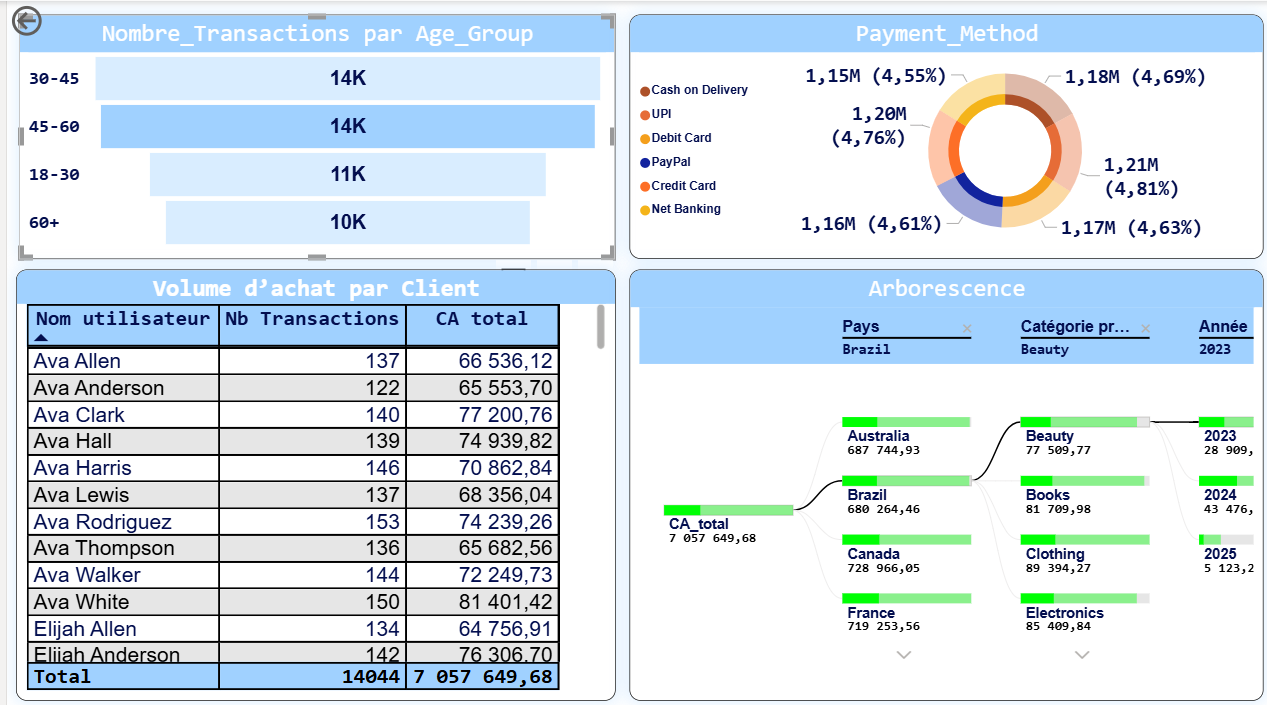

Layout of this report page (visuals, bound fields, positions):
{"tool":"powerbi","page":{"name":"Page 2","canvas":[1280,720],"ordinal":1},"visuals":[{"type":"funnel","fields":{"Category":["transactions_modifier.Age_Group"],"Y":["transactions_modifier.Nombre_Transactions"]},"box":[11.7,13.3,601.7,246.7],"z":0},{"type":"donutChart","title":" Payment_Method","fields":{"Category":["transactions_modifier.Payment_Method"],"Y":["transactions_modifier.CA_total"]},"box":[628.3,13.3,640,246.7],"z":1000},{"type":"tableEx","title":"Volume d’achat par Client","fields":{"Values":["transactions_modifier.User_Name","transactions_modifier.Nombre_Transactions","transactions_modifier.CA_total"]},"box":[8.3,271.7,605,435],"z":2000},{"type":"actionButton","box":[0,0,100,40],"z":3000},{"type":"decompositionTreeVisual","title":"Arborescence","fields":{"Analyze":["transactions_modifier.CA_total"],"ExplainBy":["transactions_modifier.Country","transactions_modifier.Product_Category","CA_month.Month_year.Variation.Hiérarchie de dates.Année","CA_month.Month_year.Variation.Hiérarchie de dates.Mois"]},"box":[628.3,271.7,640,435],"z":4000}]}

Visuals, with their boxes in screenshot pixels (x1, y1, x2, y2), scaled from the page's 1280x720 canvas onto the 1267x705 screenshot:
funnel - transactions_modifier.Age_Group x transactions_modifier.Nombre_Transactions: [12,13,607,255]
" Payment_Method" donutChart: [622,13,1255,255]
"Volume d’achat par Client" tableEx: [8,266,607,692]
actionButton: [0,0,99,39]
"Arborescence" decompositionTreeVisual: [622,266,1255,692]
